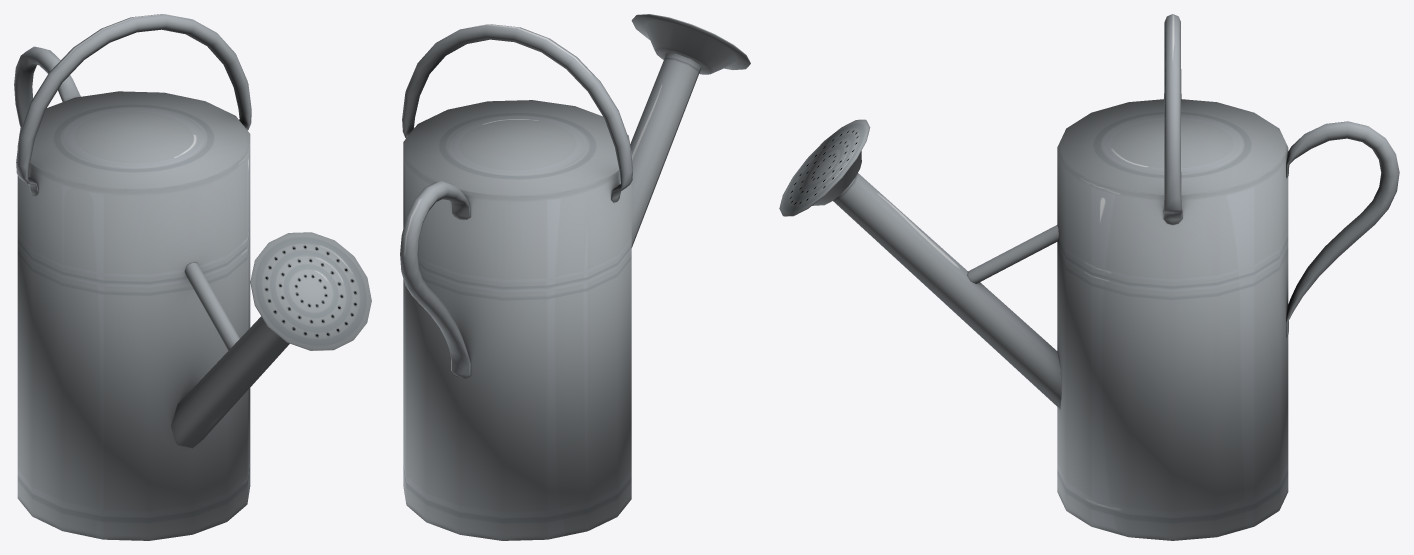
File: CanWatering.fbx
3 renders of one model, left to right at view 1: azimuth 30°, elevation 25°; view 2: azimuth 150°, elevation 25°; view 3: azimuth 270°, elevation 25°, orthographic.
Parts seen in each view (by area): view 1: CanWatering; view 2: CanWatering; view 3: CanWatering.
Boxes of the visible parts, x1=… form: CanWatering: x1=14, y1=14, x2=371, y2=540; CanWatering: x1=400, y1=14, x2=750, y2=540; CanWatering: x1=779, y1=14, x2=1399, y2=540.
Size of the model in its own units: 0.3426 by 0.6688 by 0.8066.
